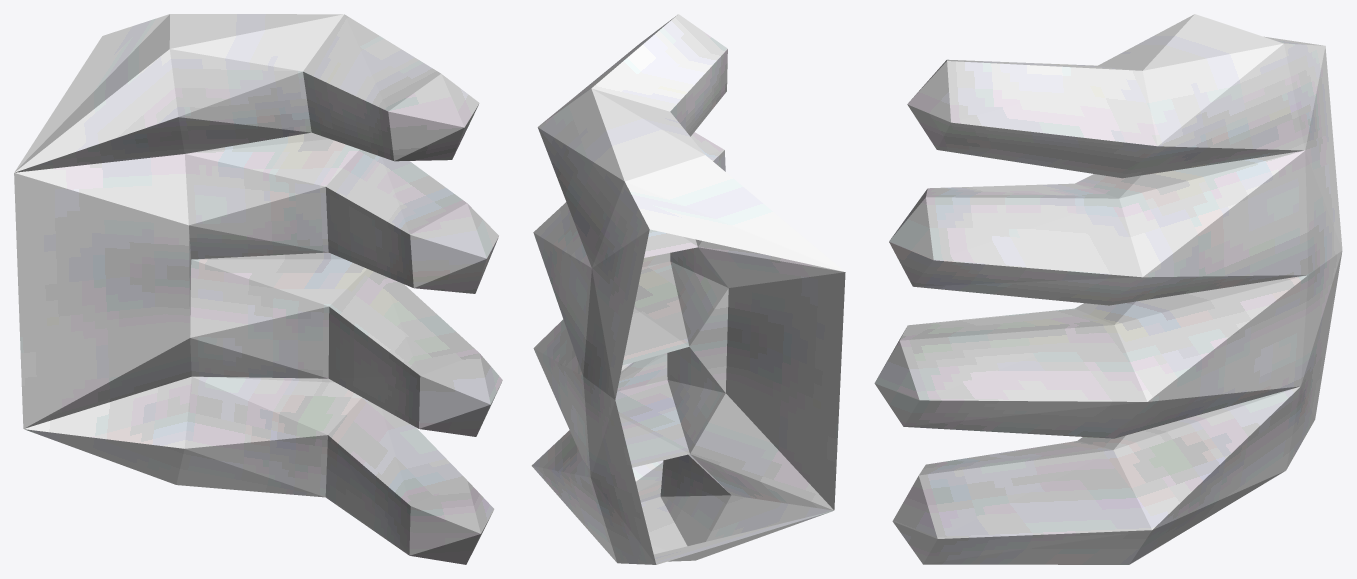
3 renders of one model, left to right at view 1: azimuth 30°, elevation 25°; view 2: azimuth 150°, elevation 25°; view 3: azimuth 270°, elevation 25°, orthographic. The views are drawn at different scales.
Parts seen in each view (by area): view 1: mesh_0AD8EB363D2D14FC; view 2: mesh_0AD8EB363D2D14FC; view 3: mesh_0AD8EB363D2D14FC.
Boxes of the visible parts, <box> form: mesh_0AD8EB363D2D14FC: <box>14,14,502,564</box>; mesh_0AD8EB363D2D14FC: <box>531,14,845,564</box>; mesh_0AD8EB363D2D14FC: <box>874,14,1342,564</box>.
Size of the model in its own units: 1.3 by 1.66 by 1.41.
